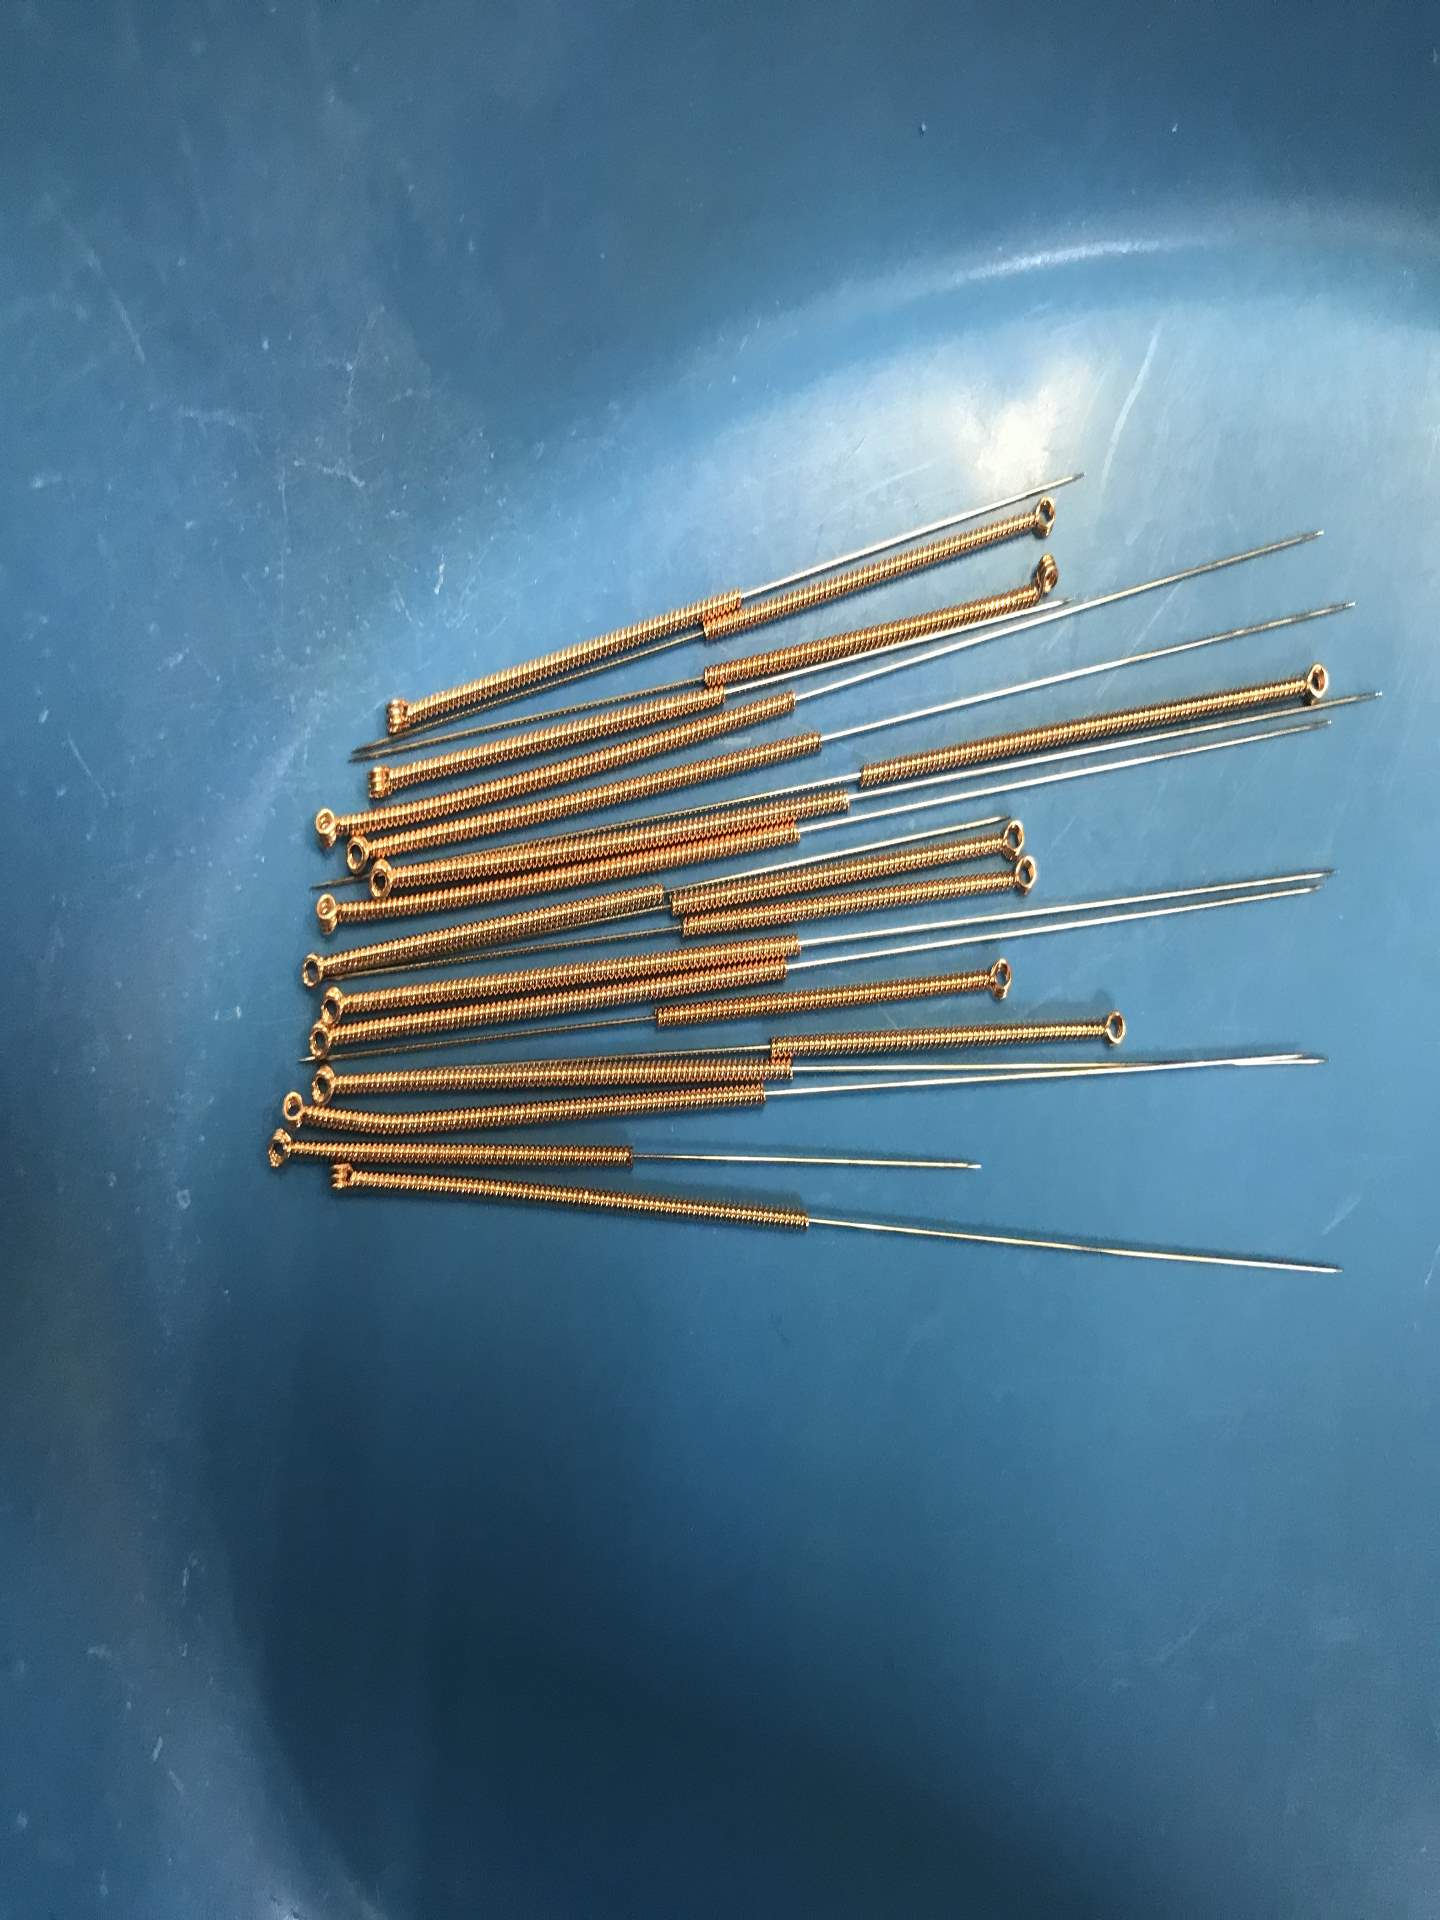needle: (1283, 653, 1339, 712), (1077, 999, 1134, 1055), (284, 945, 349, 993), (1013, 488, 1069, 544), (374, 688, 431, 741), (299, 1061, 362, 1110), (1010, 547, 1065, 602), (970, 949, 1023, 1005), (290, 1020, 357, 1064), (254, 1123, 310, 1175), (299, 801, 352, 854), (352, 756, 408, 804), (985, 809, 1035, 862), (301, 889, 357, 936), (318, 1157, 372, 1203), (995, 856, 1048, 903), (306, 986, 365, 1027), (362, 856, 414, 901), (337, 830, 389, 871), (268, 1087, 315, 1129)
